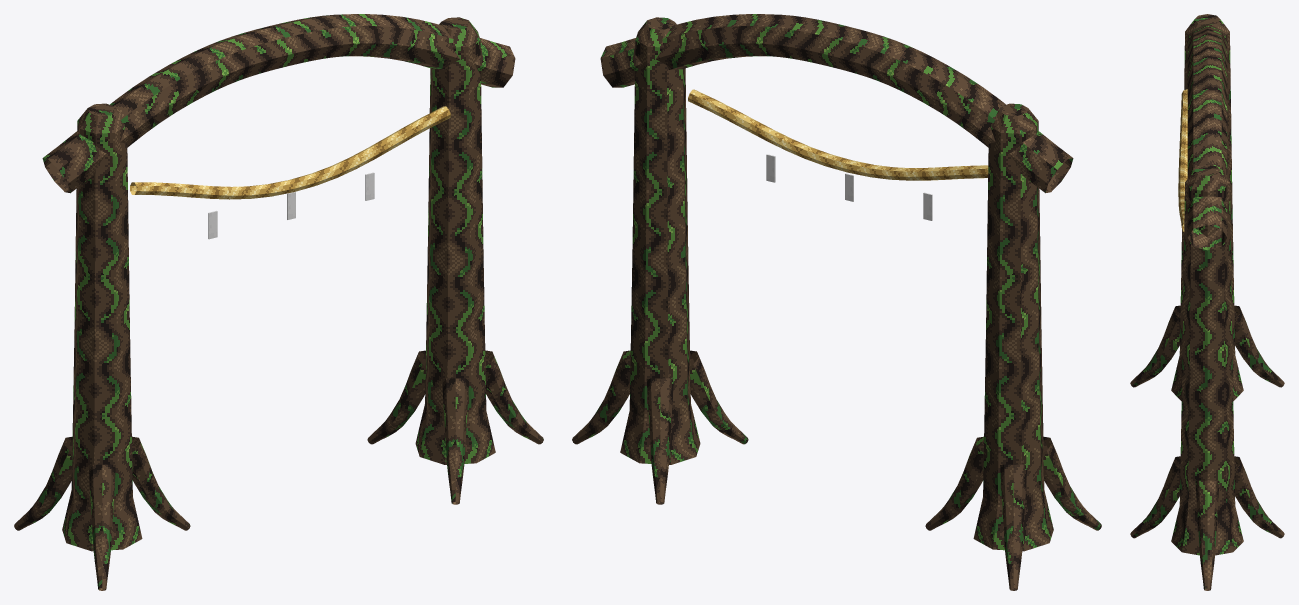
The model's file is ilex_gate.glb.
3 renders of one model, left to right at view 1: azimuth 30°, elevation 25°; view 2: azimuth 150°, elevation 25°; view 3: azimuth 270°, elevation 25°, orthographic. The views are drawn at different scales.
Visible parts, largest first — view 1: Gate; view 2: Gate; view 3: Gate.
Boxes of the visible parts, x1=… form: Gate: x1=14, y1=14, x2=543, y2=590; Gate: x1=572, y1=14, x2=1101, y2=590; Gate: x1=1130, y1=14, x2=1284, y2=590.
Size of the model in its own units: 7.57 by 7.04 by 2.34.
3 materials, 3 textured.
